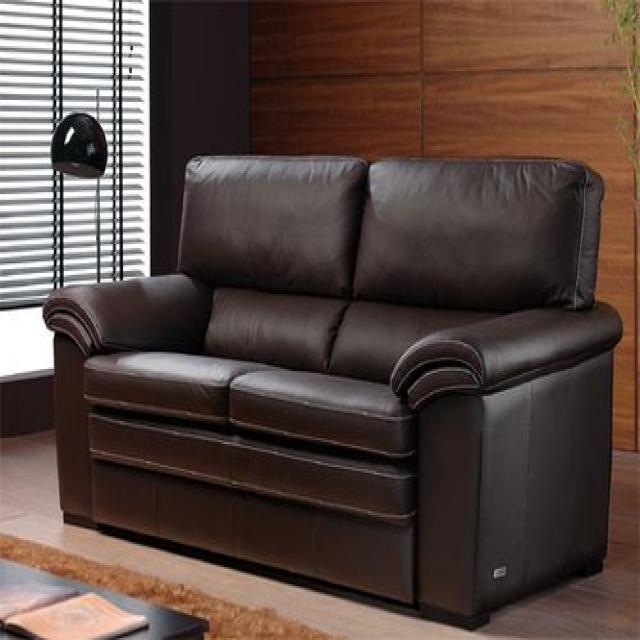sofa: (41, 150, 623, 630)
